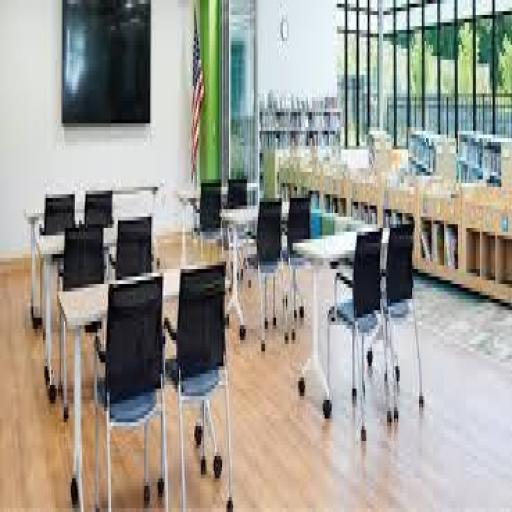chair: (168, 246, 242, 512), (91, 269, 171, 512), (331, 217, 386, 467), (251, 189, 285, 338)
